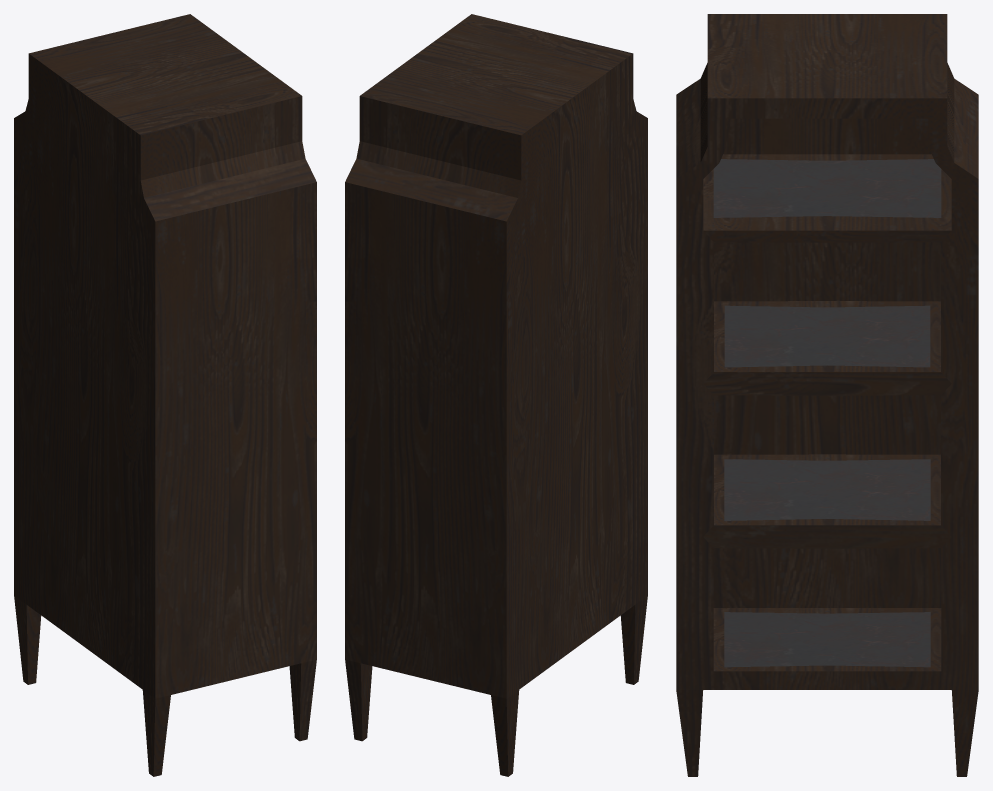
Rendered from cupboard.glb.
3 views of the same model, side by side, from view 1: azimuth 30°, elevation 25°; view 2: azimuth 150°, elevation 25°; view 3: azimuth 270°, elevation 25° (orthographic). The views are drawn at different scales.
Visible parts, largest first — view 1: TallCabinet; view 2: TallCabinet; view 3: TallCabinet.
Part boxes in pixels (<box>): TallCabinet: <box>14,14,316,776</box>; TallCabinet: <box>345,14,647,776</box>; TallCabinet: <box>676,14,978,776</box>.
Size of the model in its own units: 0.3988 by 1.5 by 0.6038.
Materials: 2 (2 with a texture image).
